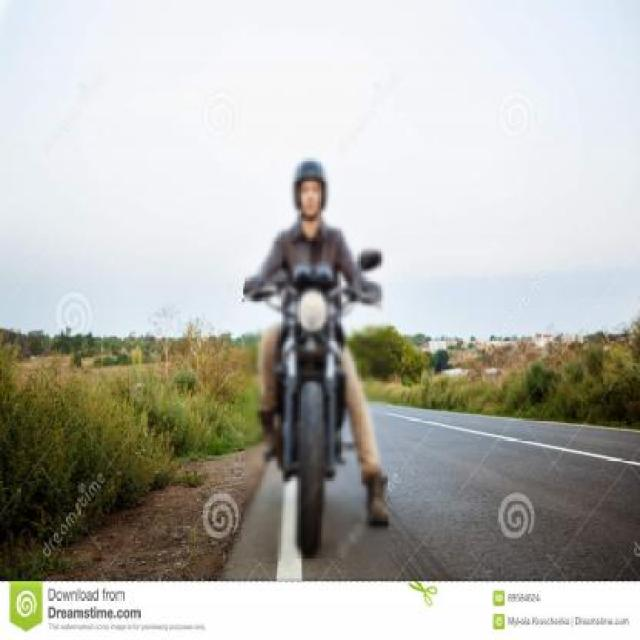helmet: (278, 162, 334, 226)
motorcycle: (222, 154, 412, 567)
